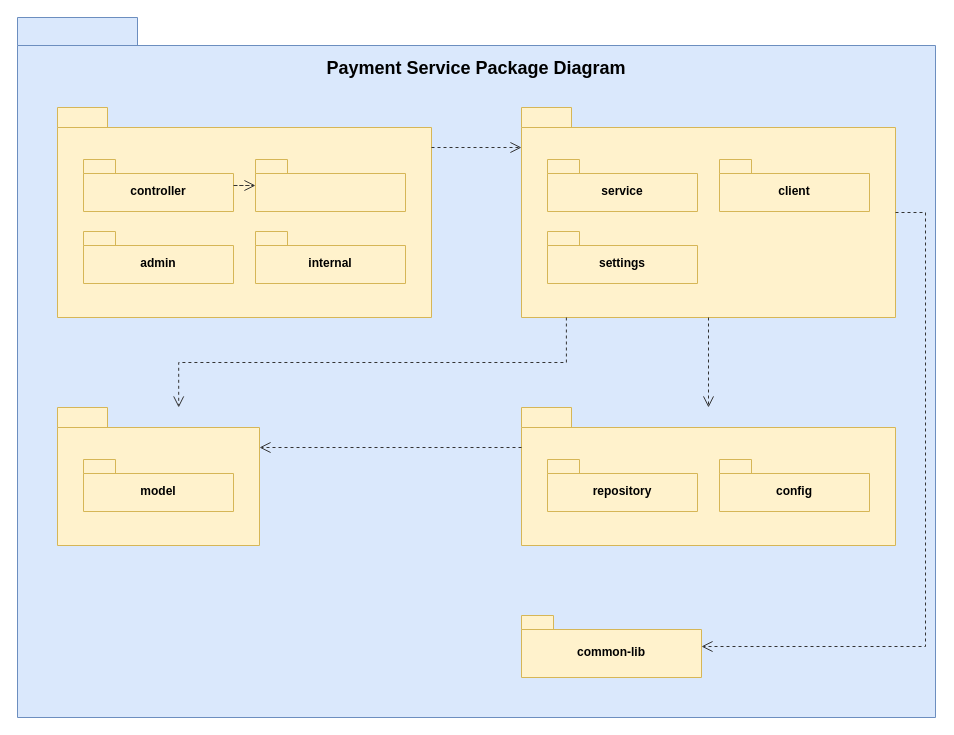
The diagram is 954 pixels wide and 735 high, and some of its shapes have lost their labels. The shapes that lost their labels are listed below. From the top down, each one's box as (x1, y1, x2, y2) in pixels, then its label:
(254, 158, 406, 212): dto
(56, 106, 432, 318): API Layer
(520, 106, 896, 318): Application Layer
(56, 406, 260, 546): Domain Layer
(520, 406, 896, 546): Infrastructure Layer
